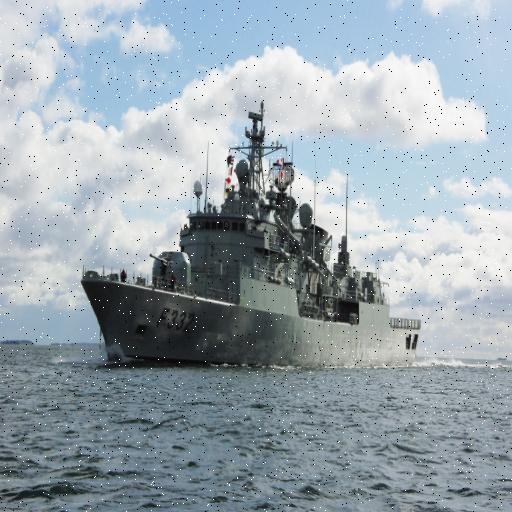Fragata: (76, 98, 428, 365)
